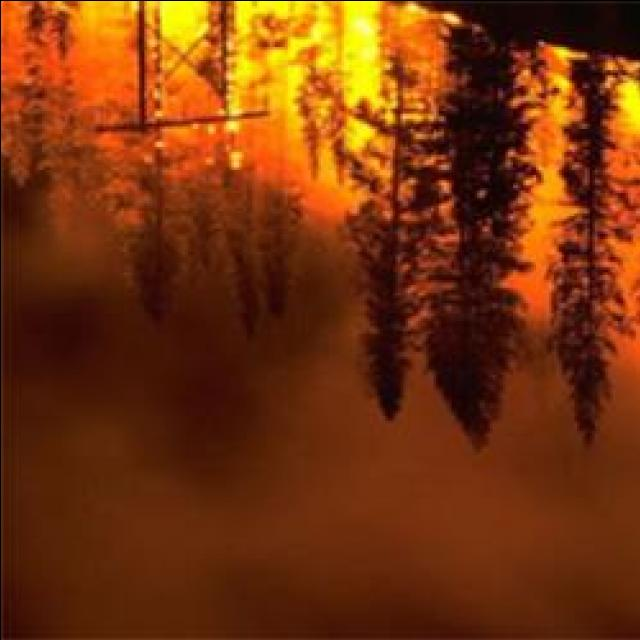fire: (102, 67, 386, 132), (13, 5, 386, 52), (530, 54, 640, 170)
smoke: (89, 206, 315, 439), (243, 540, 479, 622), (478, 411, 624, 529), (370, 288, 539, 350)
